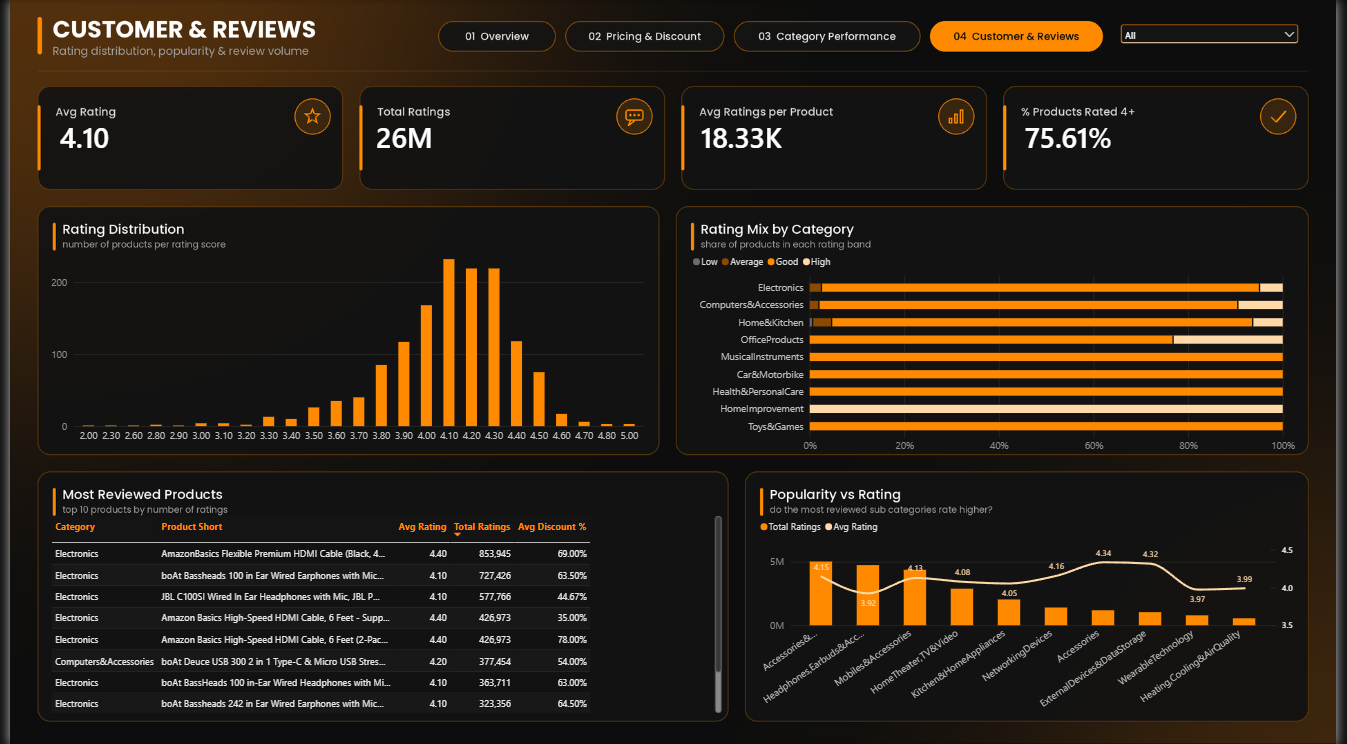

The dashboard page shown, as its layout file describes it:
{"tool":"powerbi","page":{"name":"Customer & Review Analysis","canvas":[1920,1080],"ordinal":4},"visuals":[{"type":"cardVisual","fields":{"Data":["meseaur.Avg Rating"]},"box":[56.1,128.5,245,138.3],"z":0},{"type":"cardVisual","fields":{"Data":["meseaur.Total Ratings"]},"box":[514.5,128.5,245,138.3],"z":1000},{"type":"cardVisual","fields":{"Data":["meseaur.Avg Ratings per Product"]},"box":[983.9,128.5,245,138.3],"z":2000},{"type":"cardVisual","fields":{"Data":["meseaur.% Products Rated 4+"]},"box":[1453.2,128.5,245,138.3],"z":3000},{"type":"tableEx","fields":{"Values":["Dim_Category.Category","Fact_Products.Product Short","meseaur.Avg Rating","meseaur.Total Ratings","meseaur.Avg Discount %"]},"box":[43.4,732.9,1002.6,314.9],"z":4000},{"type":"hundredPercentStackedBarChart","fields":{"Category":["Dim_Category.Category"],"Series":["Fact_Products.Rating Group2"],"Y":["meseaur.Total Products"]},"box":[971.8,349.3,904.8,327.5],"z":5000},{"type":"clusteredColumnChart","fields":{"Category":["Fact_Products.rating"],"Y":["meseaur.Total Products"]},"box":[43.4,333,890.4,327.5],"z":6000},{"type":"lineClusteredColumnComboChart","fields":{"Category":["Dim_Category.Sub Category"],"Y":["meseaur.Total Ratings"],"Y2":["meseaur.Avg Rating"]},"box":[1069.5,732.9,807.1,347.5],"z":7000},{"type":"slicer","fields":{"Values":["Dim_Category.Main Category"]},"box":[1603.9,31.4,266.7,52.9],"z":8000},{"type":"actionButton","box":[629.8,30.8,161.1,39.8],"z":9000},{"type":"actionButton","box":[819.8,34.4,193.6,39.8],"z":10000},{"type":"actionButton","box":[1058.7,30.8,246.1,39.8],"z":11000},{"type":"actionButton","box":[1342.8,30.8,242.5,47.1],"z":12000}]}

Visuals, with their boxes in screenshot pixels (x1, y1, x2, y2), scaled from the page's 1920x1080 canvas onto the 1347x744 screenshot:
cardVisual - meseaur.Avg Rating: crop(39, 89, 211, 184)
cardVisual - meseaur.Total Ratings: crop(361, 89, 533, 184)
cardVisual - meseaur.Avg Ratings per Product: crop(690, 89, 862, 184)
cardVisual - meseaur.% Products Rated 4+: crop(1020, 89, 1191, 184)
tableEx - Dim_Category.Category x Fact_Products.Product Short: crop(30, 505, 734, 722)
hundredPercentStackedBarChart - Dim_Category.Category x Fact_Products.Rating Group2: crop(682, 241, 1317, 466)
clusteredColumnChart - Fact_Products.rating x meseaur.Total Products: crop(30, 229, 655, 455)
lineClusteredColumnComboChart - Dim_Category.Sub Category x meseaur.Total Ratings: crop(750, 505, 1317, 743)
slicer - Dim_Category.Main Category: crop(1125, 22, 1312, 58)
actionButton: crop(442, 21, 555, 49)
actionButton: crop(575, 24, 711, 51)
actionButton: crop(743, 21, 915, 49)
actionButton: crop(942, 21, 1112, 54)
